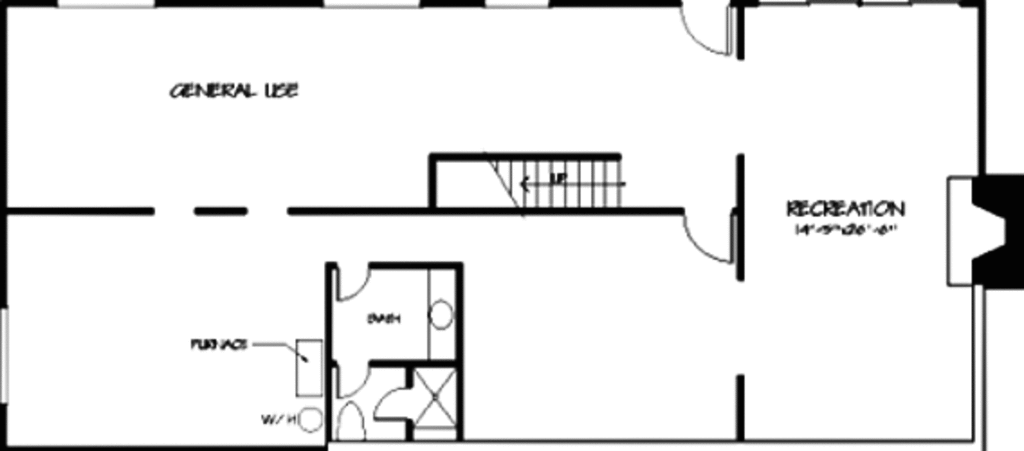door: (671, 210, 738, 265), (672, 1, 733, 55), (332, 257, 371, 304), (333, 355, 369, 400), (371, 381, 411, 421)
large_sink: (334, 401, 369, 442)
small_sink: (421, 269, 462, 363)
stairs: (418, 140, 633, 208)
window: (1, 301, 11, 404), (320, 1, 424, 8), (56, 1, 157, 8), (487, 1, 552, 8)
